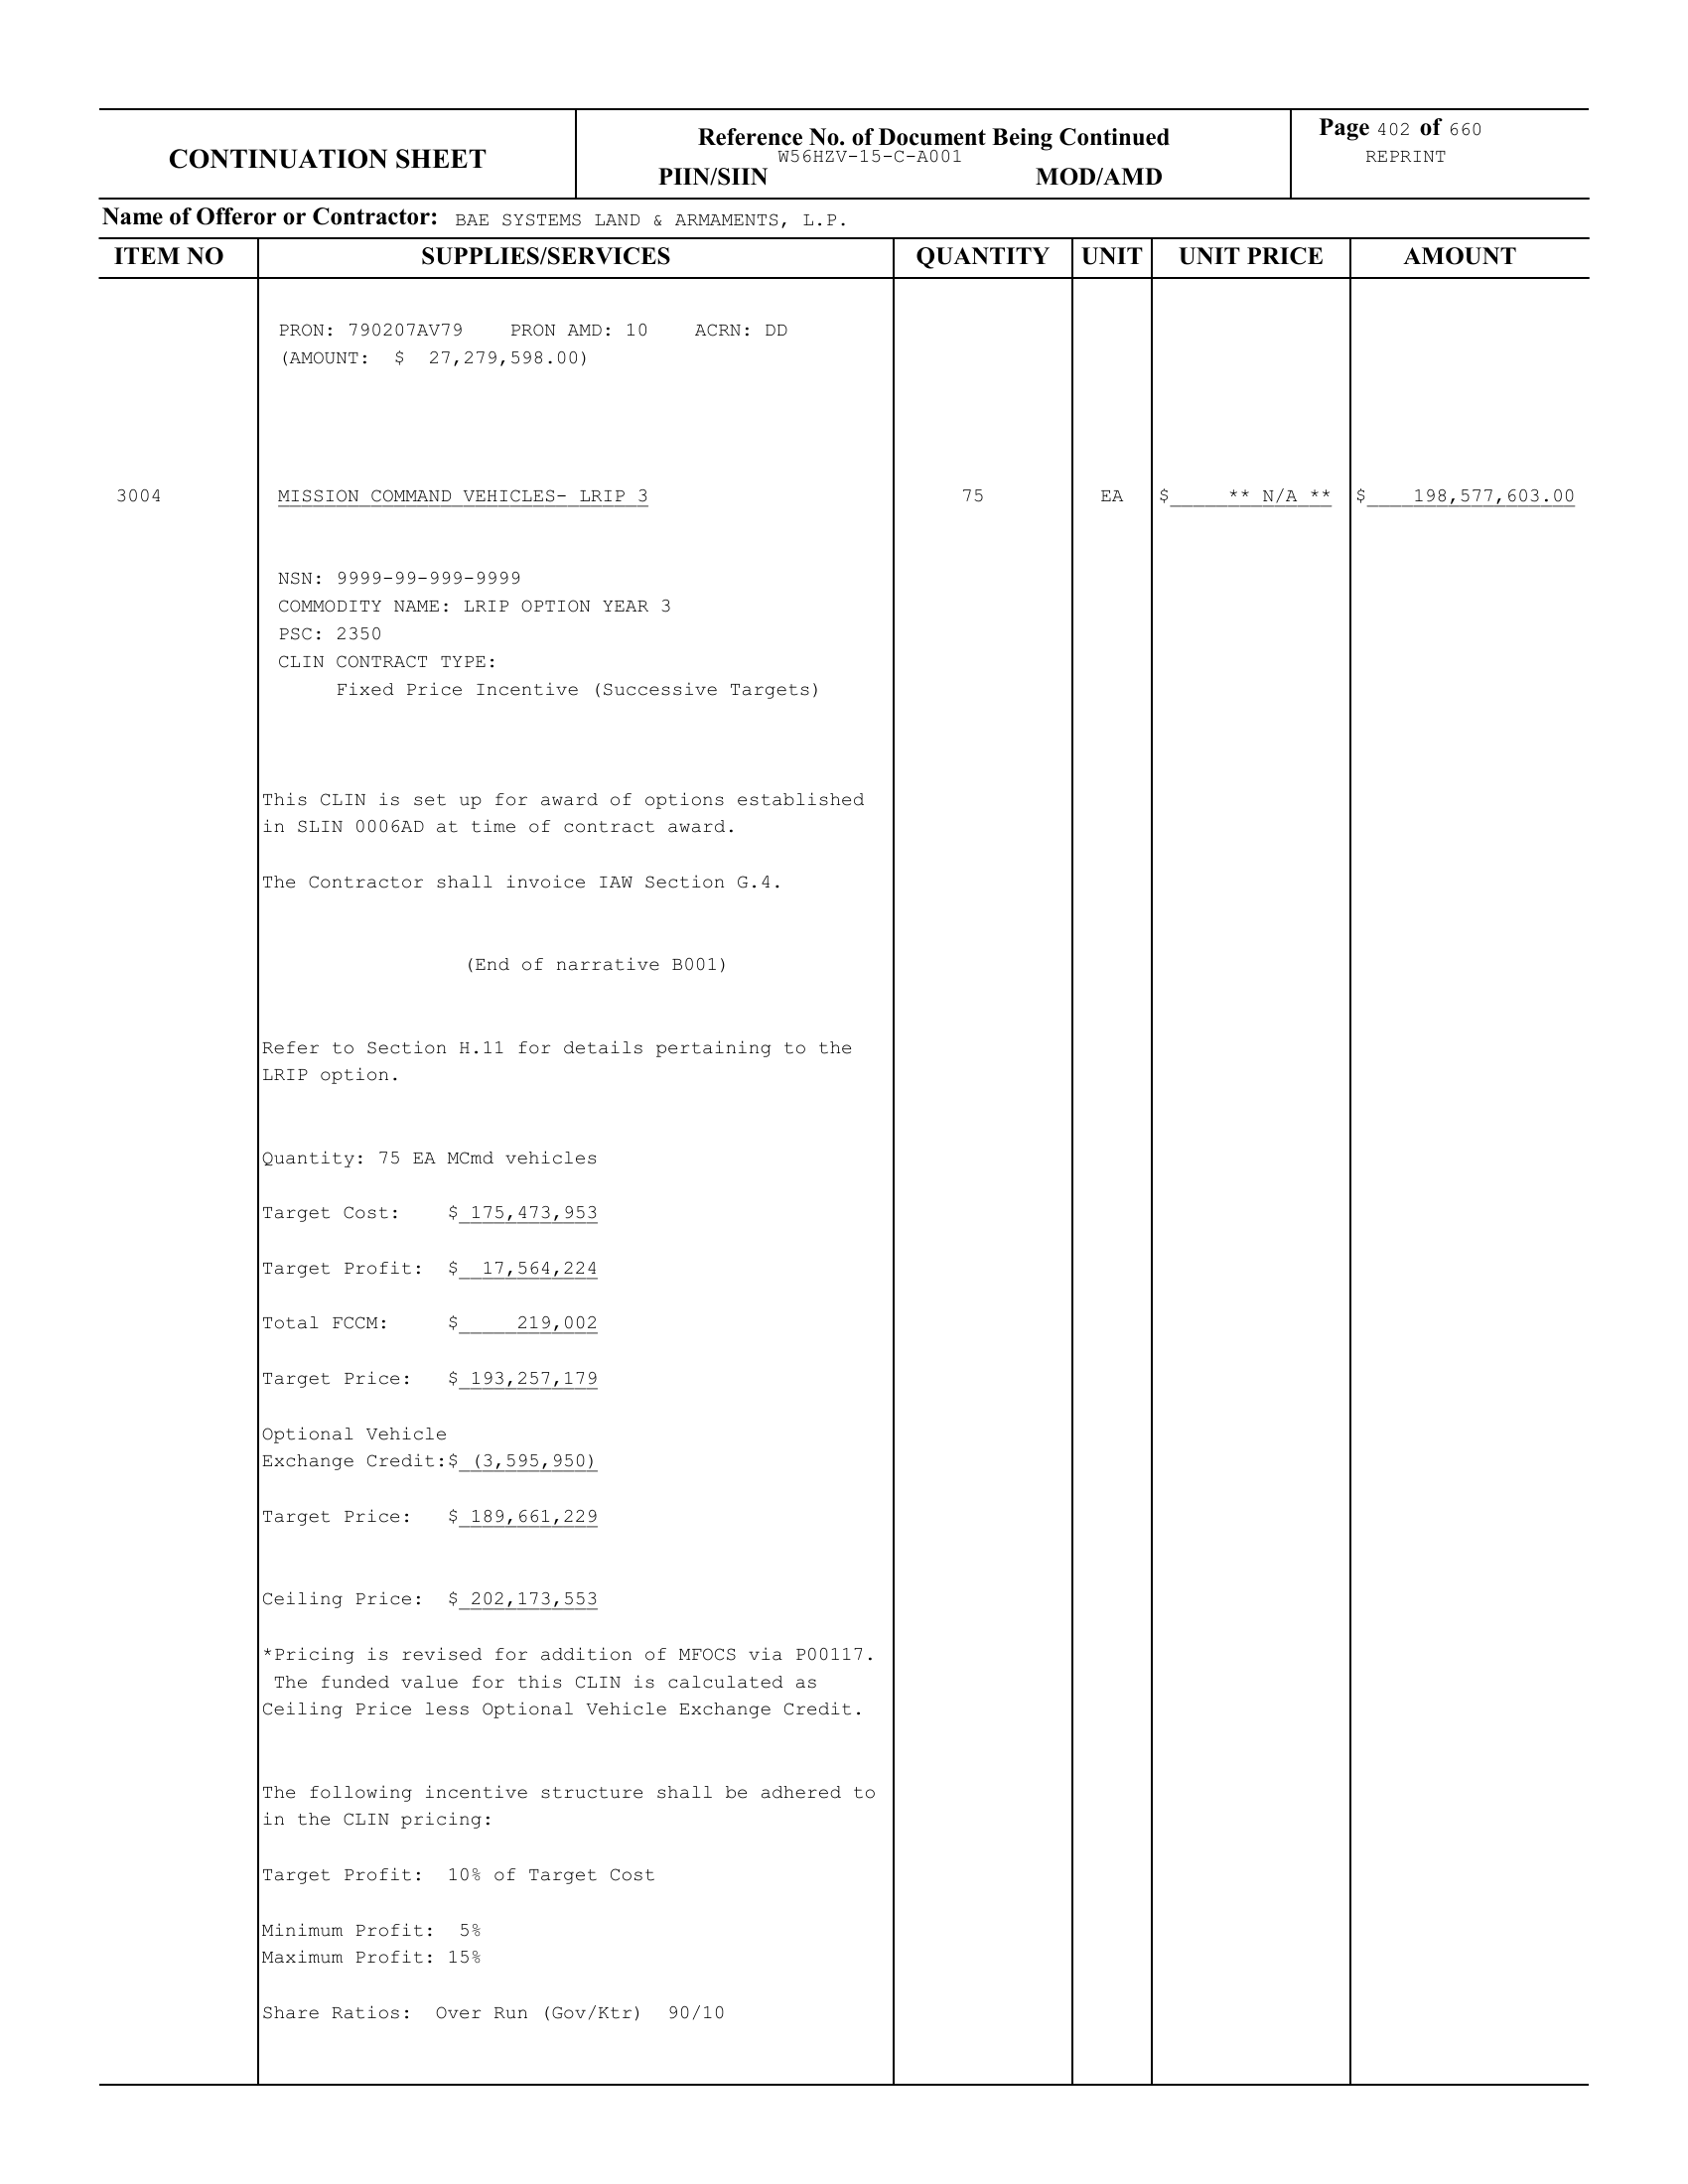table: (103, 241, 1587, 2086)
